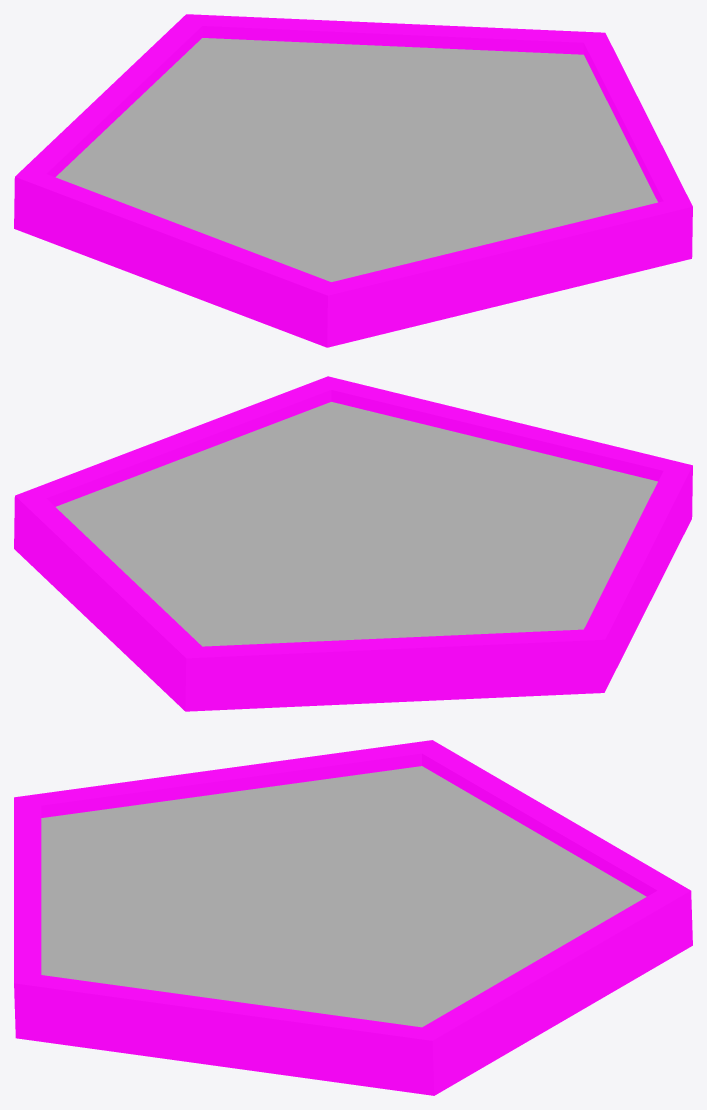
File: SFI0210021.fbx
The picture shows the model from 3 angles, top to bottom: view 1: azimuth 30°, elevation 25°; view 2: azimuth 150°, elevation 25°; view 3: azimuth 270°, elevation 25°; orthographic projection. The views are drawn at different scales.
Parts seen in each view (by area): view 1: smSFI0210021; view 2: smSFI0210021; view 3: smSFI0210021.
Part boxes in pixels (left/top/right/bottom): smSFI0210021: left=14, top=14, right=692, bottom=347; smSFI0210021: left=14, top=376, right=692, bottom=711; smSFI0210021: left=14, top=740, right=692, bottom=1095.
Size of the model in its own units: 137 by 11.71 by 130.
